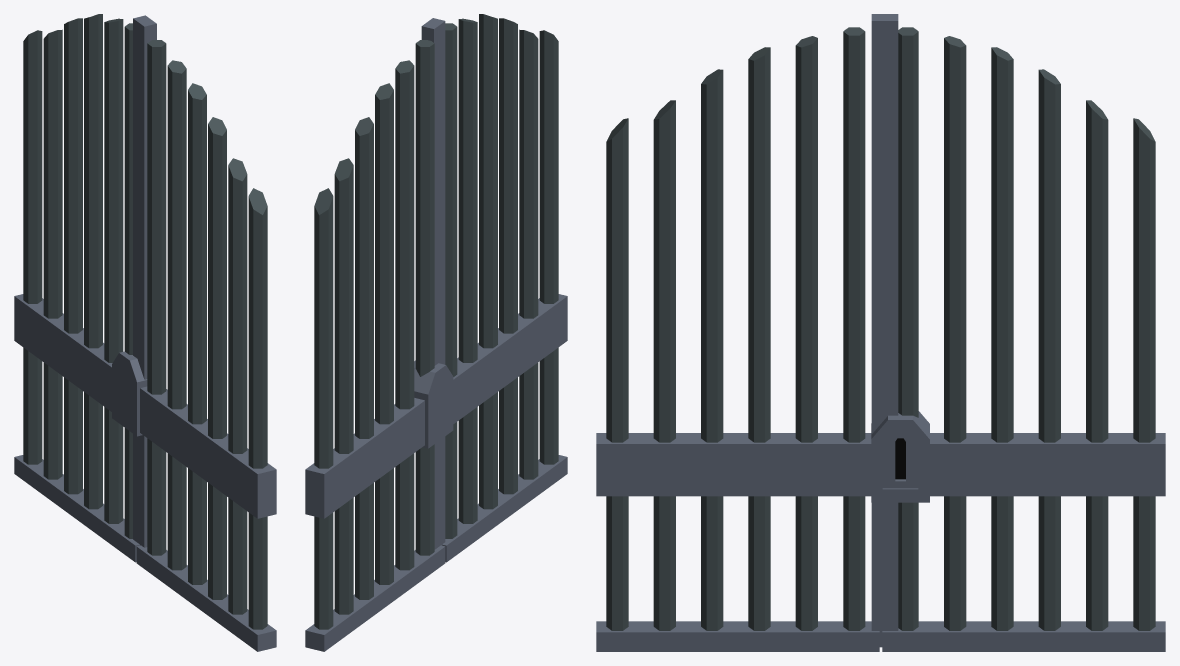
Rendered from OuterFence_GateDoors.fbx.
3 renders of one model, left to right at view 1: azimuth 30°, elevation 25°; view 2: azimuth 150°, elevation 25°; view 3: azimuth 270°, elevation 25°, orthographic. The views are drawn at different scales.
Parts seen in each view (by area): view 1: Right-Gate, Left-Gate; view 2: Right-Gate, Left-Gate; view 3: Right-Gate, Left-Gate.
Boxes of the visible parts, x1=… form: Right-Gate: x1=14, y1=14, x2=156, y2=562; Left-Gate: x1=136, y1=40, x2=276, y2=651; Right-Gate: x1=305, y1=18, x2=453, y2=651; Left-Gate: x1=442, y1=14, x2=567, y2=562; Right-Gate: x1=871, y1=14, x2=1165, y2=651; Left-Gate: x1=596, y1=27, x2=879, y2=651.
Size of the model in its own units: 0.2046 by 3.8 by 3.12.
